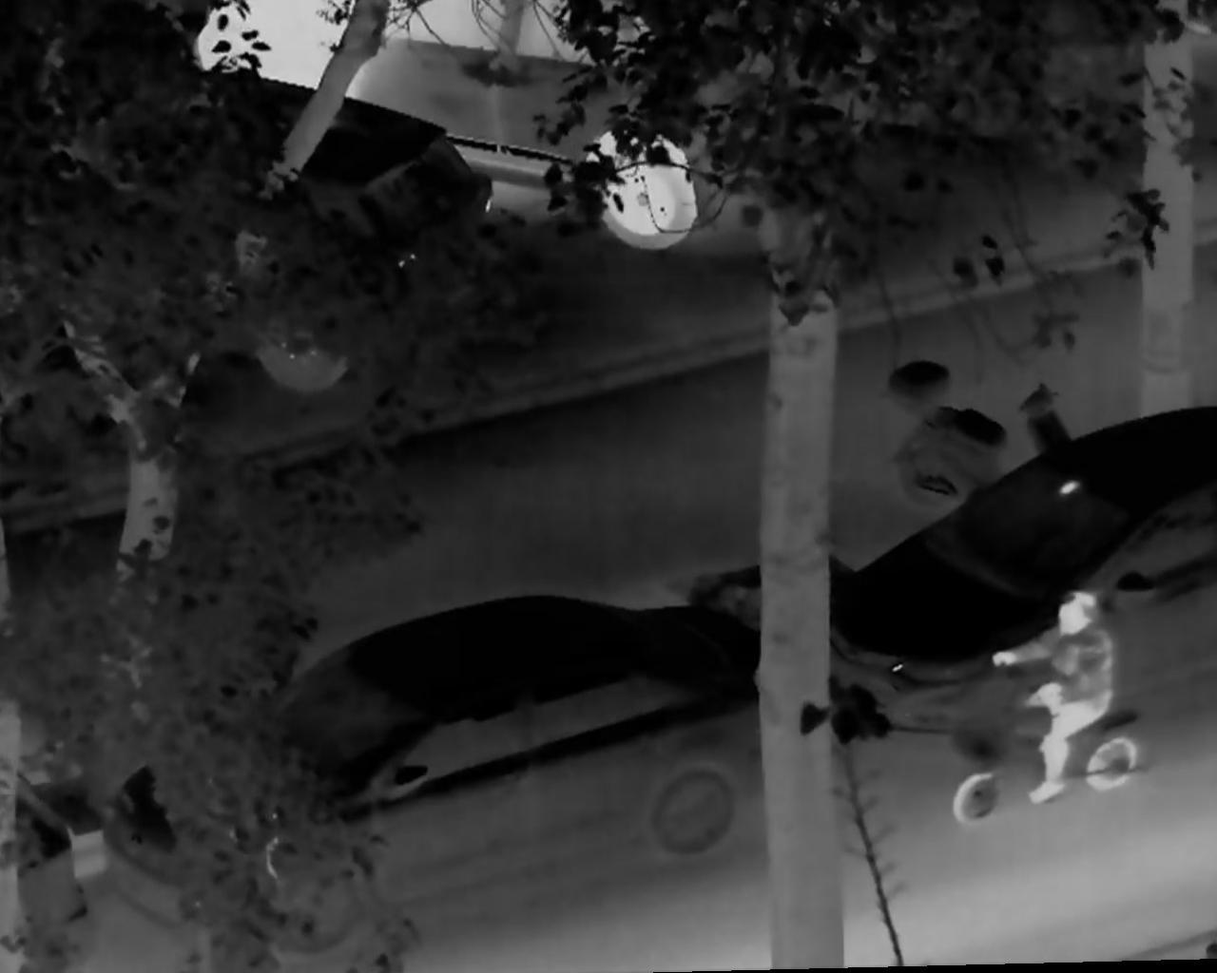person: (992, 585, 1114, 811)
